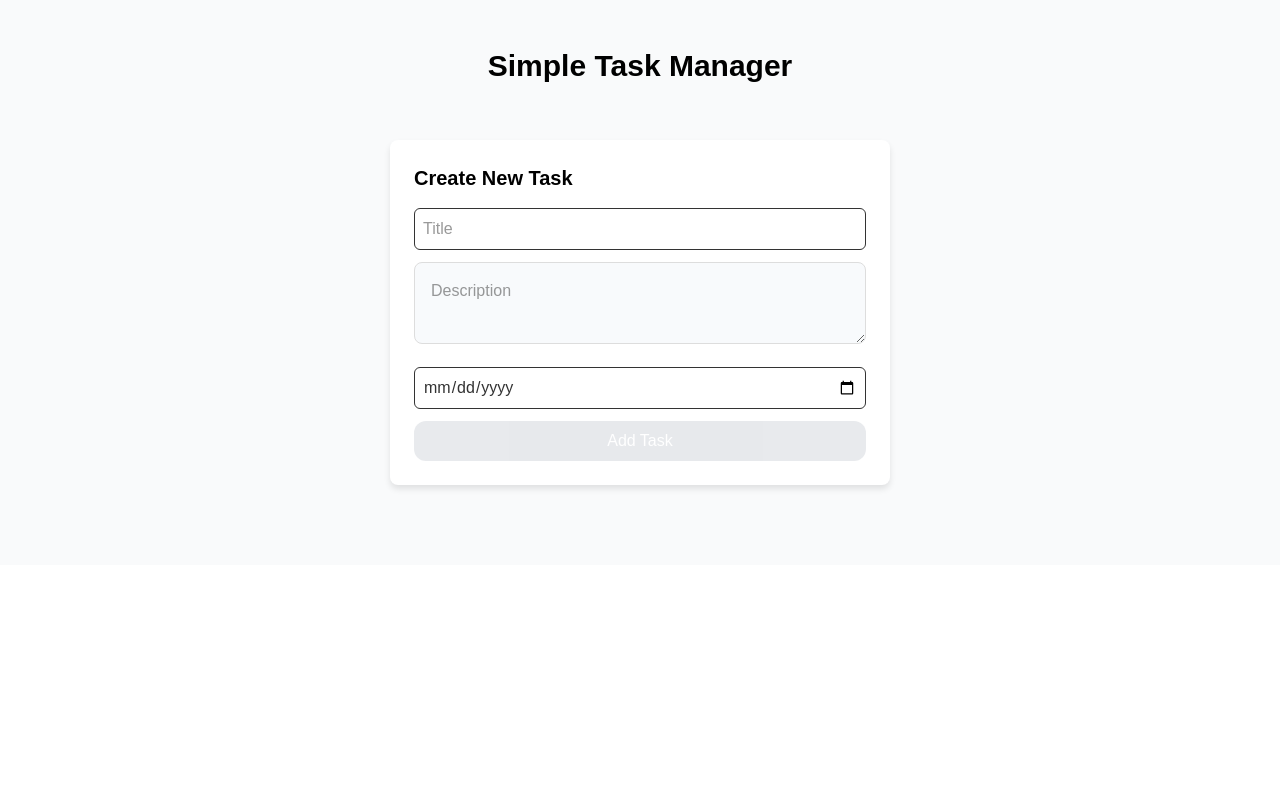
it: Simple Task Manager › should allow a user to toggle the task completion
Add a new task first
In the field with placeholder "Title": (640, 229) x1=414 y1=208 x2=866 y2=250, type "Test Task Toggle"
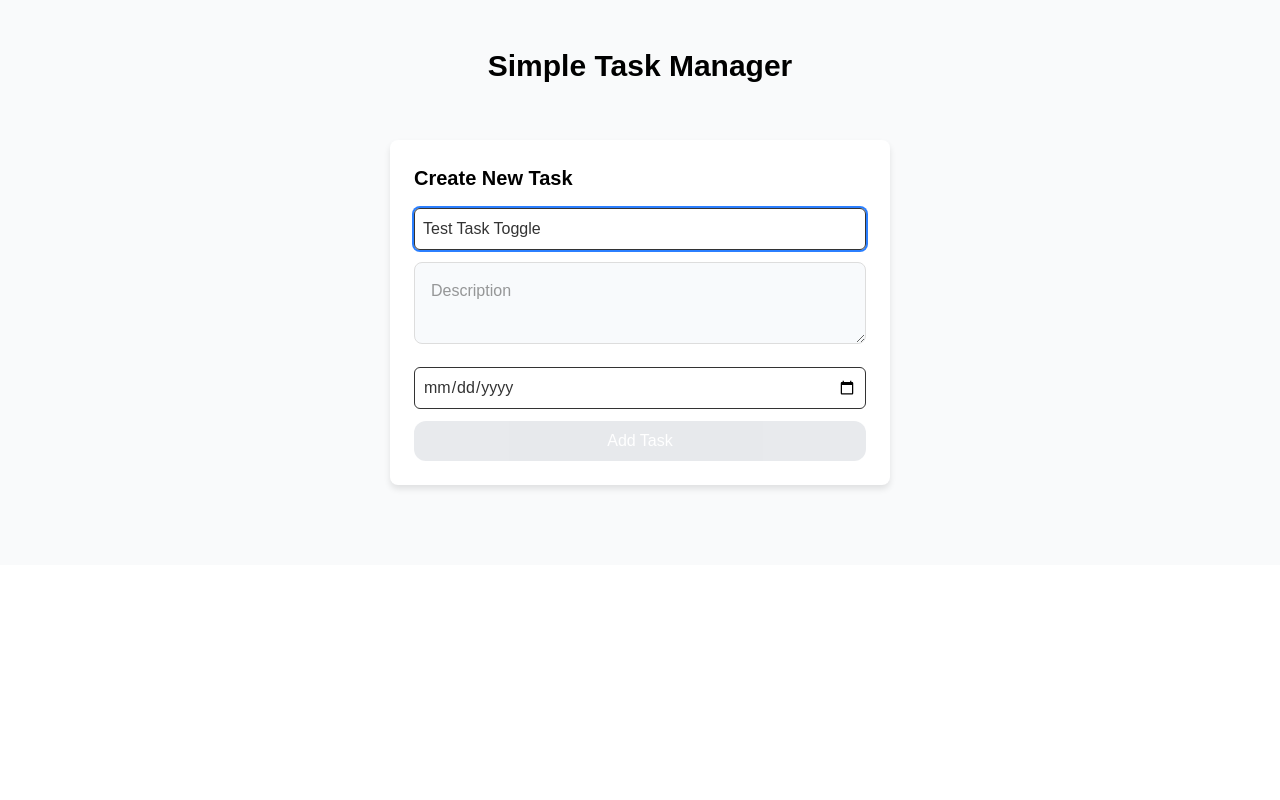
In the text box with placeholder "Description": (640, 303) x1=414 y1=262 x2=866 y2=344, type "Description for toggle task"
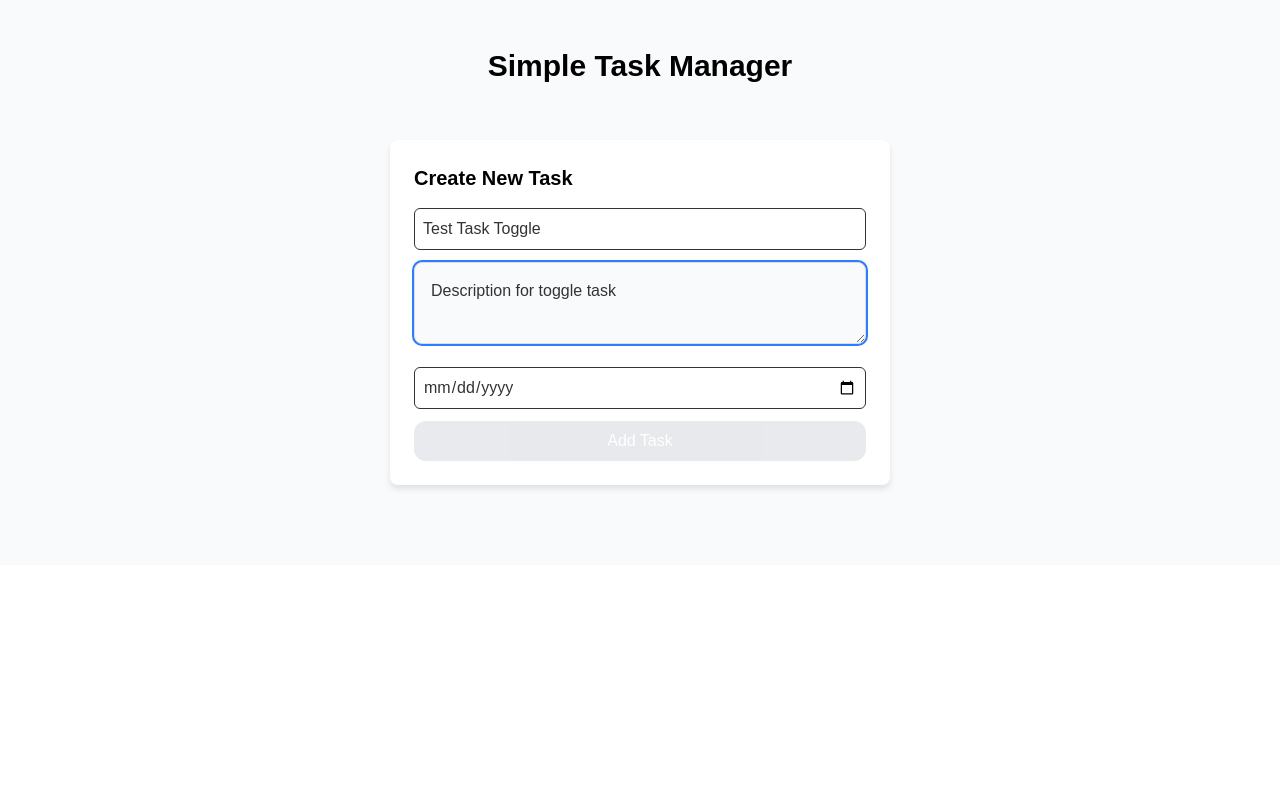
In the date field: (640, 388) x1=414 y1=367 x2=866 y2=409, type "2025-12-25"
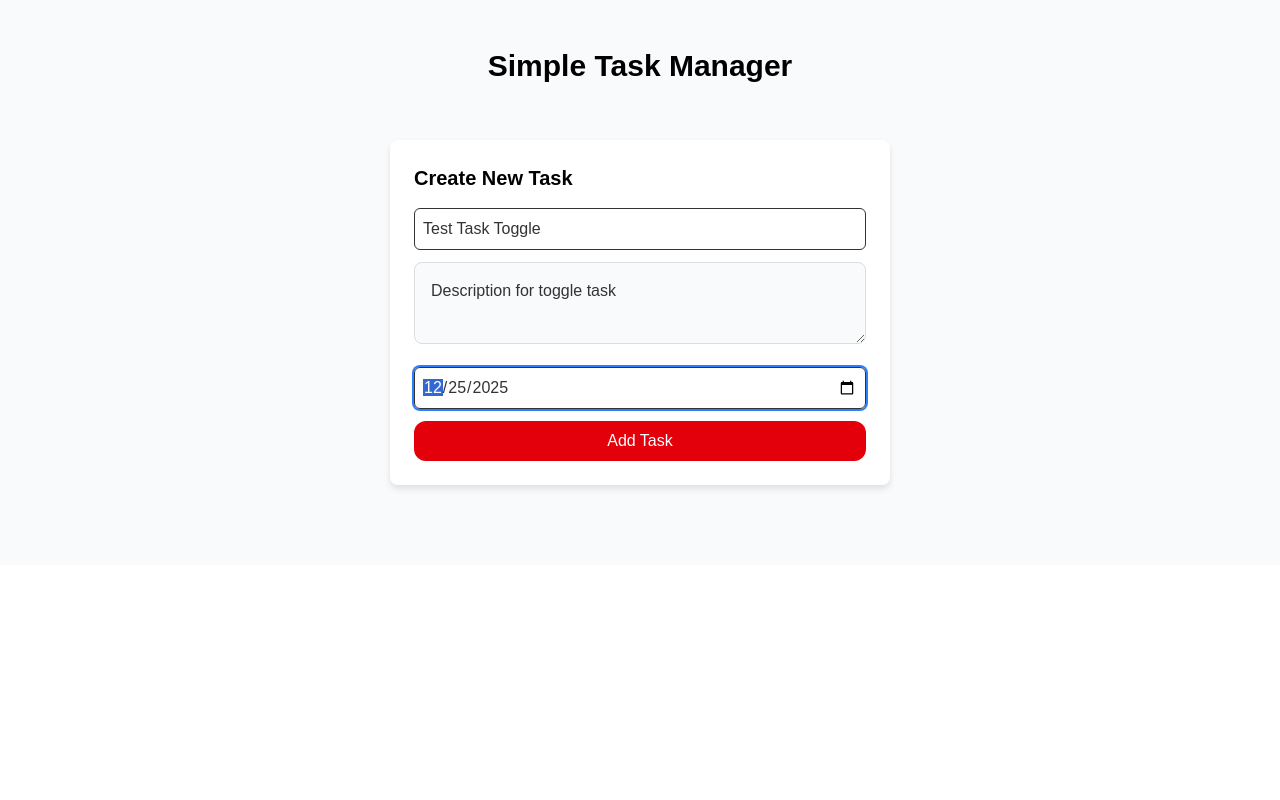
Click the submit button: click(640, 441) x1=414 y1=421 x2=866 y2=461
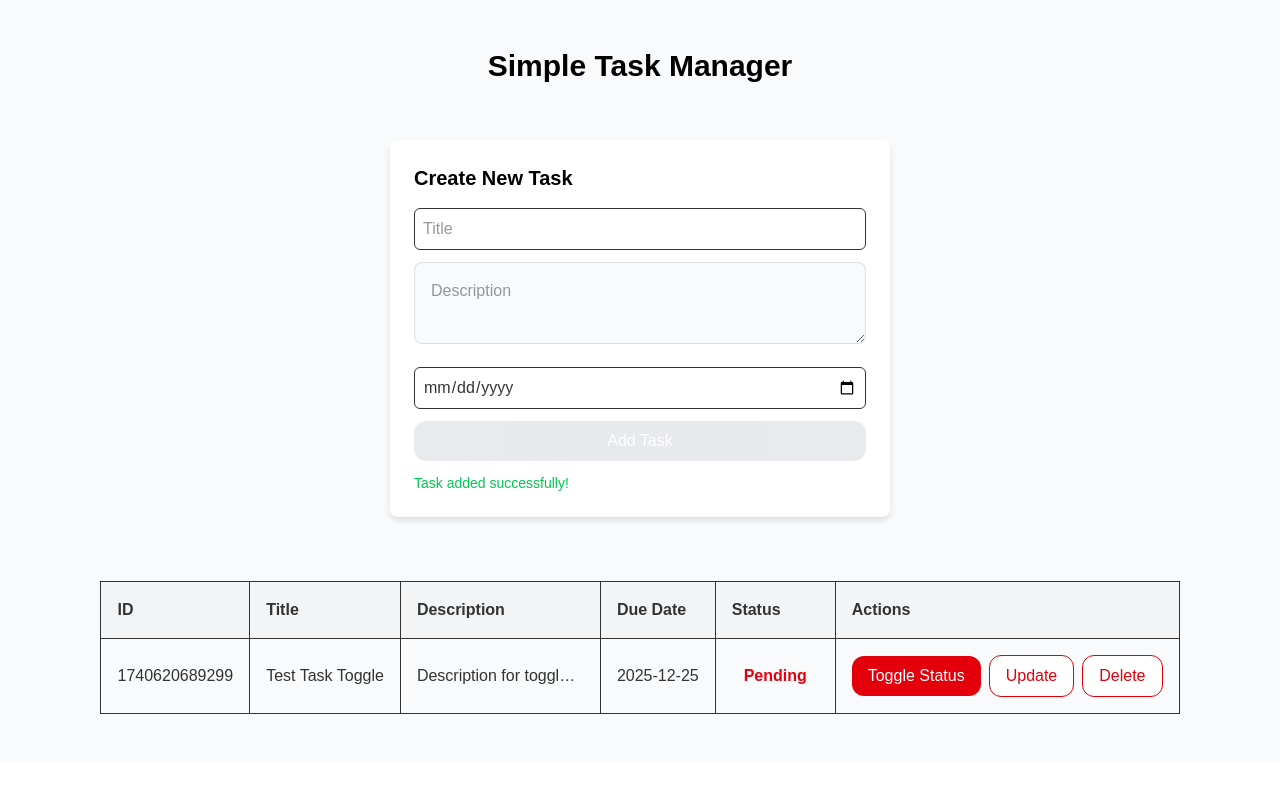
Toggle completion status
Click the button "Toggle Status": click(917, 676) x1=852 y1=656 x2=981 y2=696
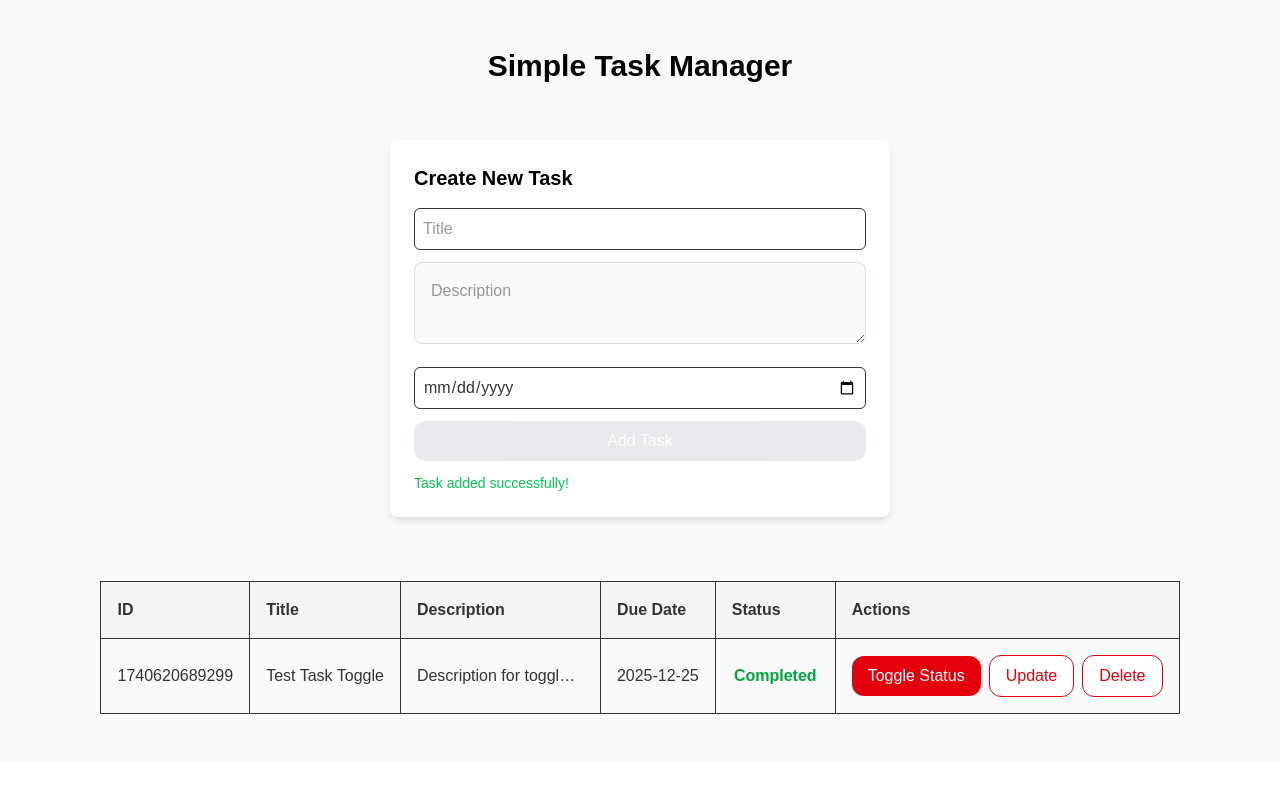
Expected: the text "Completed" is shown, x1=734 y1=667 x2=817 y2=684
